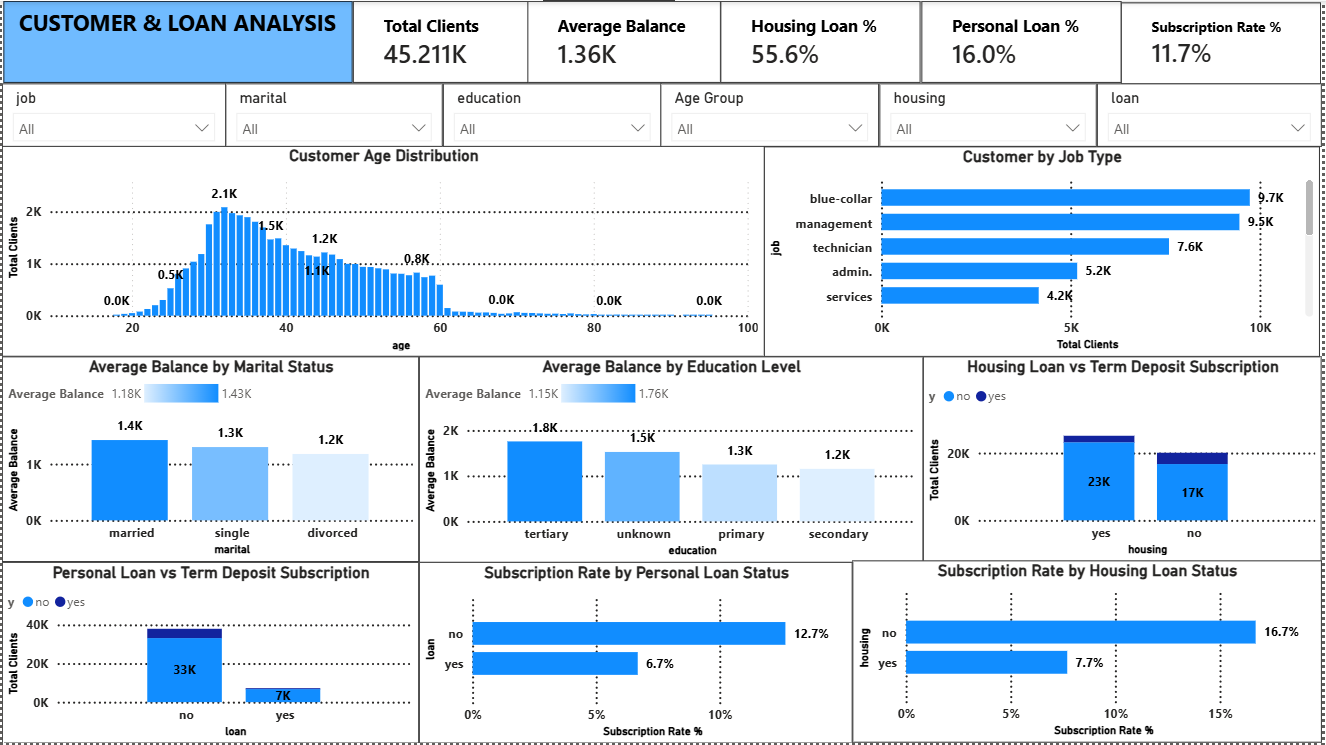

The page's visual inventory and layout, read from the dashboard file:
{"tool":"powerbi","page":{"name":"Customer & Loan Analysis","canvas":[1280,720],"ordinal":1},"visuals":[{"type":"cardVisual","fields":{"Data":["FactCampaign.Average Balance"]},"box":[510.1,0,187.8,79.3],"z":0},{"type":"cardVisual","fields":{"Data":["FactCampaign.Housing Loan %"]},"box":[697.9,0,194.3,79.3],"z":1000},{"type":"cardVisual","fields":{"Data":["FactCampaign.Personal Loan %"]},"box":[892.2,0,194.3,79.3],"z":2000},{"type":"cardVisual","fields":{"Data":["FactCampaign.Subscription Rate %"]},"box":[1086.5,1.6,194,79.3],"z":3000},{"type":"textbox","box":[1.6,0,338.4,79.3],"z":4000},{"type":"clusteredBarChart","title":"Customer by Job Type","fields":{"Category":["FactCampaign.job"],"Y":["FactCampaign.Total Clients"]},"box":[740,140.9,539.2,204],"z":5000},{"type":"clusteredColumnChart","title":"Customer Age Distribution","fields":{"Category":["FactCampaign.age"],"Y":["FactCampaign.Total Clients"]},"box":[0,139.3,740,205.6],"z":6000},{"type":"columnChart","title":"Personal Loan vs Term Deposit Subscription","fields":{"Category":["FactCampaign.loan"],"Y":["FactCampaign.Total Clients"],"Series":["FactCampaign.y"]},"box":[0,544.1,404.8,176],"z":7000},{"type":"clusteredColumnChart","title":"Average Balance by Marital Status","fields":{"Category":["FactCampaign.marital"],"Y":["FactCampaign.Average Balance"]},"box":[0,344.9,404.8,199],"z":8000},{"type":"clusteredColumnChart","title":"Average Balance by Education Level","fields":{"Category":["FactCampaign.education"],"Y":["FactCampaign.Average Balance"]},"box":[404.8,344.9,489,200],"z":9000},{"type":"columnChart","title":"Housing Loan vs Term Deposit Subscription","fields":{"Category":["FactCampaign.housing"],"Y":["FactCampaign.Total Clients"],"Series":["FactCampaign.y"]},"box":[893,344.9,387,199],"z":10000},{"type":"slicer","fields":{"Values":["FactCampaign.job"]},"box":[0,79.3,217,61],"z":11000},{"type":"slicer","fields":{"Values":["FactCampaign.marital"]},"box":[217,79.3,210.5,61.5],"z":12000},{"type":"slicer","fields":{"Values":["FactCampaign.education"]},"box":[427.5,79.3,212,61.5],"z":13000},{"type":"slicer","fields":{"Values":["FactCampaign.Age Group"]},"box":[639.6,79.3,212,61.5],"z":14000},{"type":"slicer","fields":{"Values":["FactCampaign.housing"]},"box":[851.7,79.3,210.5,61.5],"z":15000},{"type":"slicer","fields":{"Values":["FactCampaign.loan"]},"box":[1062.2,79.3,218,61],"z":16000},{"type":"cardVisual","fields":{"Data":["FactCampaign.Total Clients"]},"box":[340,0,170,79.3],"z":17000},{"type":"clusteredBarChart","title":"Subscription Rate by Personal Loan Status","fields":{"Category":["FactCampaign.loan"],"Y":["FactCampaign.Subscription Rate %"]},"box":[404.8,544.1,421,176],"z":18000},{"type":"clusteredBarChart","title":"Subscription Rate by Housing Loan Status","fields":{"Category":["FactCampaign.housing"],"Y":["FactCampaign.Subscription Rate %"]},"box":[825,543.5,455,176.5],"z":19000}]}

Visuals, with their boxes in screenshot pixels (x1, y1, x2, y2), scaled from the page's 1280x720 canvas onto the 1326x745 screenshot:
cardVisual - FactCampaign.Average Balance: pyautogui.locateOnScreen(528, 0, 723, 82)
cardVisual - FactCampaign.Housing Loan %: pyautogui.locateOnScreen(723, 0, 924, 82)
cardVisual - FactCampaign.Personal Loan %: pyautogui.locateOnScreen(924, 0, 1126, 82)
cardVisual - FactCampaign.Subscription Rate %: pyautogui.locateOnScreen(1126, 2, 1325, 84)
textbox: pyautogui.locateOnScreen(2, 0, 352, 82)
"Customer by Job Type" clusteredBarChart: pyautogui.locateOnScreen(767, 146, 1325, 357)
"Customer Age Distribution" clusteredColumnChart: pyautogui.locateOnScreen(0, 144, 767, 357)
"Personal Loan vs Term Deposit Subscription" columnChart: pyautogui.locateOnScreen(0, 563, 419, 744)
"Average Balance by Marital Status" clusteredColumnChart: pyautogui.locateOnScreen(0, 357, 419, 563)
"Average Balance by Education Level" clusteredColumnChart: pyautogui.locateOnScreen(419, 357, 926, 564)
"Housing Loan vs Term Deposit Subscription" columnChart: pyautogui.locateOnScreen(925, 357, 1325, 563)
slicer - FactCampaign.job: pyautogui.locateOnScreen(0, 82, 225, 145)
slicer - FactCampaign.marital: pyautogui.locateOnScreen(225, 82, 443, 146)
slicer - FactCampaign.education: pyautogui.locateOnScreen(443, 82, 662, 146)
slicer - FactCampaign.Age Group: pyautogui.locateOnScreen(663, 82, 882, 146)
slicer - FactCampaign.housing: pyautogui.locateOnScreen(882, 82, 1100, 146)
slicer - FactCampaign.loan: pyautogui.locateOnScreen(1100, 82, 1325, 145)
cardVisual - FactCampaign.Total Clients: pyautogui.locateOnScreen(352, 0, 528, 82)
"Subscription Rate by Personal Loan Status" clusteredBarChart: pyautogui.locateOnScreen(419, 563, 855, 744)
"Subscription Rate by Housing Loan Status" clusteredBarChart: pyautogui.locateOnScreen(855, 562, 1325, 744)
